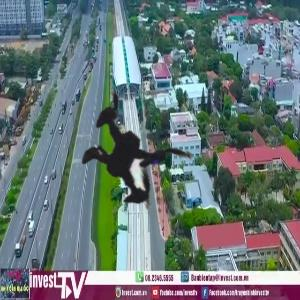drone: (6, 46, 231, 271)
